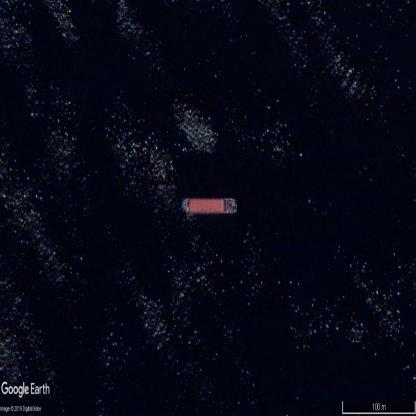ship: (182, 197, 237, 216)
